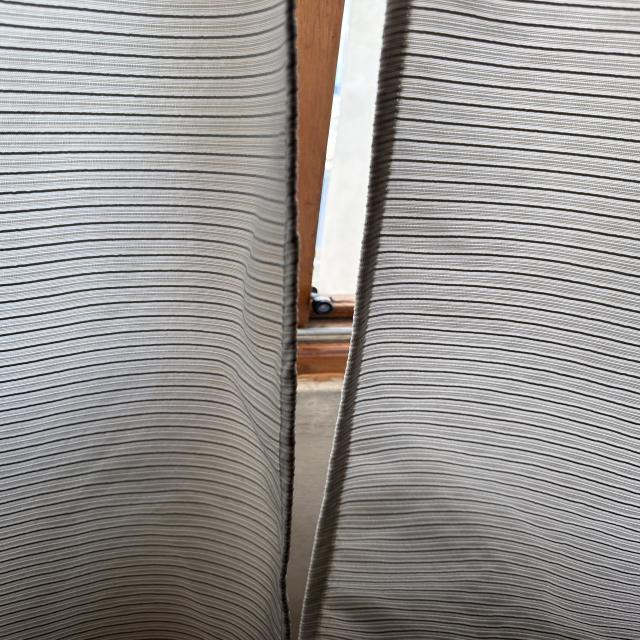hidden camera: (316, 302, 333, 315)
